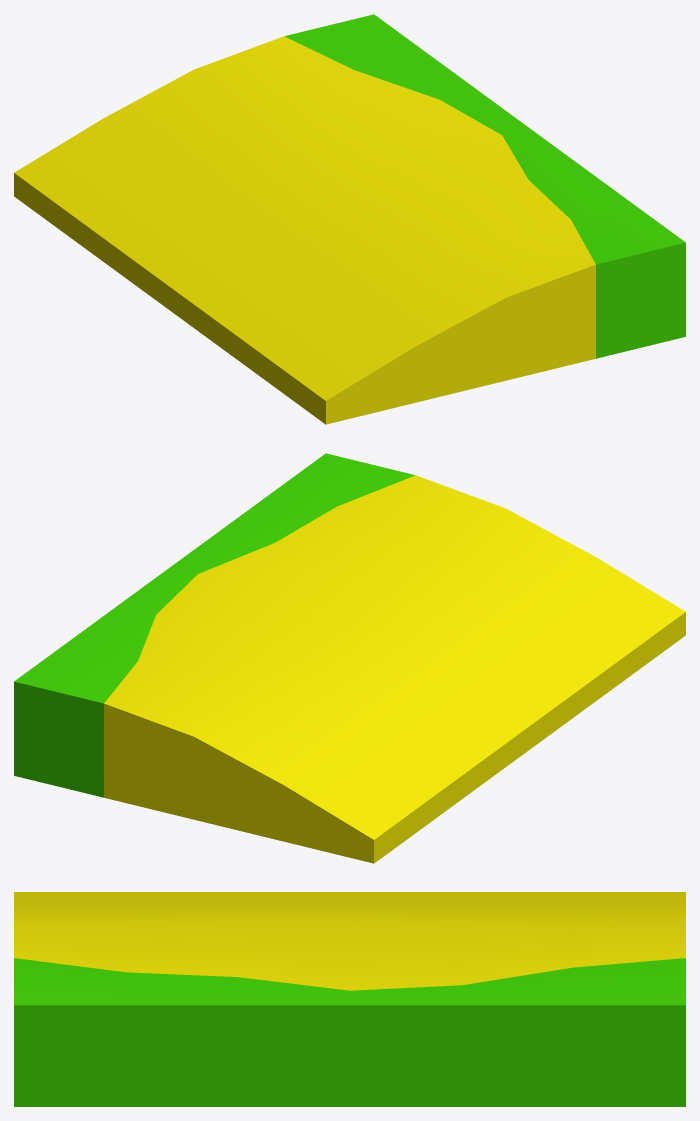
The model's file is corner_beach.fbx.
3 renders of one model, top to bottom at view 1: azimuth 30°, elevation 25°; view 2: azimuth 150°, elevation 25°; view 3: azimuth 270°, elevation 25°, orthographic. The views are drawn at different scales.
Visible parts, largest first — view 1: Box001.001; view 2: Box001.001; view 3: Box001.001.
Boxes of the visible parts, x1,y1,x2,y2 form: Box001.001: (14,14,685,424); Box001.001: (14,453,685,863); Box001.001: (14,892,685,1106).
Bounding box in the file's own units: 160 × 40 × 240.
